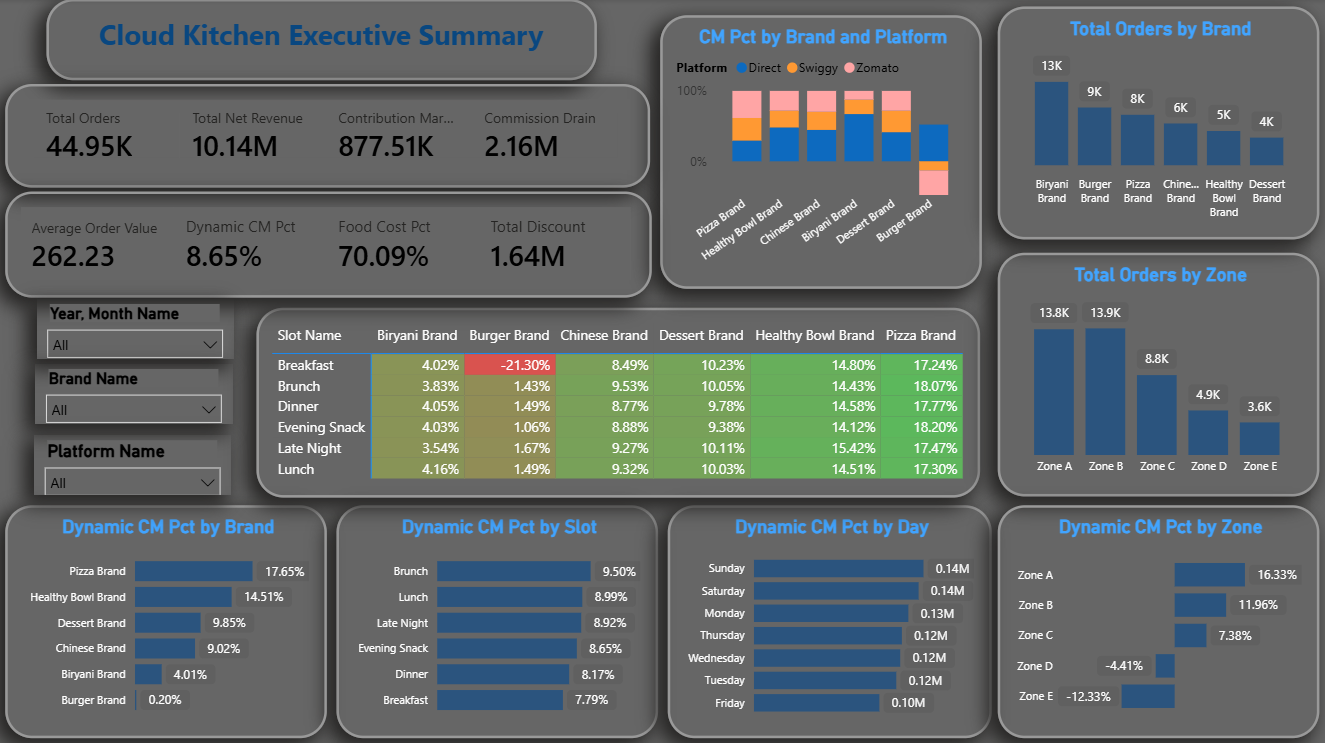

This screenshot's page, from the dashboard's own definition file:
{"tool":"powerbi","page":{"name":"Duplicate of Executive Summary","canvas":[1280,720],"ordinal":1},"visuals":[{"type":"clusteredBarChart","title":"Dynamic CM Pct by Slot","fields":{"Category":["vw_brand_unit_economics.slot_name"],"Y":["_Measure.Dynamic CM Pct"]},"box":[326.2,488.8,310,225],"z":0},{"type":"clusteredBarChart","title":"Dynamic CM Pct by Brand","fields":{"Category":["vw_brand_unit_economics.brand_name"],"Y":["_Measure.Dynamic CM Pct"]},"box":[6.2,488.8,310,225],"z":1000},{"type":"clusteredBarChart","title":"Dynamic CM Pct by Day","fields":{"Category":["dim_date.Day Name"],"Y":["_Measure.Total Contribution Margin"]},"box":[645,488.8,312.5,225],"z":2000},{"type":"pivotTable","fields":{"Columns":["vw_brand_unit_economics.brand_name"],"Rows":["vw_brand_unit_economics.slot_name"],"Values":["_Measures.Dynamic CM Pct"]},"box":[248.8,297.5,698,183],"z":3000},{"type":"columnChart","title":"Total Orders by Brand","fields":{"Category":["vw_brand_unit_economics.brand_name"],"Y":["_Measure.Total Orders"]},"box":[963.8,7.5,310,225],"z":4000},{"type":"columnChart","title":"Total Orders by Zone","fields":{"Category":["vw_brand_unit_economics.zone_name"],"Y":["_Measure.Total Orders"]},"box":[963.8,245,310,235],"z":5000},{"type":"barChart","title":"Dynamic CM Pct by Zone","fields":{"Category":["vw_brand_unit_economics.zone_name"],"Y":["_Measure.Dynamic CM Pct"]},"box":[963.8,488.8,310,225],"z":6000},{"type":"hundredPercentStackedColumnChart","title":"CM Pct by Brand and Platform","fields":{"Category":["vw_brand_unit_economics.brand_name"],"Series":["vw_brand_unit_economics.platform_name"],"Y":["_Measure.Total Contribution Margin"]},"box":[638.8,16.2,310,263.8],"z":7000},{"type":"textbox","box":[46.2,0,531.2,78.8],"z":8000},{"type":"cardVisual","fields":{"Data":["_Measure.Total Orders","_Measure.Total Net Revenue","_Measure.Total Contribution Margin","_Measure.Platform Commission Drain"]},"box":[6.2,82.5,622.5,100],"z":9000},{"type":"cardVisual","fields":{"Data":["_Measure.Average Order Value","_Measure.Dynamic CM Pct","_Measure.Food Cost Percentage","_Measure.Total Discount"]},"box":[6.2,186.2,623.8,102.5],"z":10000},{"type":"slicer","fields":{"Values":["dim_date.Year","dim_date.Month Name"]},"box":[36.2,290,190,57.5],"z":11000},{"type":"slicer","fields":{"Values":["vw_brand_unit_economics.brand_name"]},"box":[35,352.5,190,57.5],"z":12000},{"type":"slicer","fields":{"Values":["vw_brand_unit_economics.platform_name"]},"box":[33.8,421.2,190,57.5],"z":13000}]}

Visuals, with their boxes in screenshot pixels (x1, y1, x2, y2), scaled from the page's 1280x720 canvas onto the 1325x743 screenshot:
"Dynamic CM Pct by Slot" clusteredBarChart: <box>338,504,659,737</box>
"Dynamic CM Pct by Brand" clusteredBarChart: <box>6,504,327,737</box>
"Dynamic CM Pct by Day" clusteredBarChart: <box>668,504,991,737</box>
pivotTable - vw_brand_unit_economics.brand_name x vw_brand_unit_economics.slot_name: <box>258,307,980,496</box>
"Total Orders by Brand" columnChart: <box>998,8,1319,240</box>
"Total Orders by Zone" columnChart: <box>998,253,1319,495</box>
"Dynamic CM Pct by Zone" barChart: <box>998,504,1319,737</box>
"CM Pct by Brand and Platform" hundredPercentStackedColumnChart: <box>661,17,982,289</box>
textbox: <box>48,0,598,81</box>
cardVisual - _Measure.Total Orders x _Measure.Total Net Revenue: <box>6,85,651,188</box>
cardVisual - _Measure.Average Order Value x _Measure.Dynamic CM Pct: <box>6,192,652,298</box>
slicer - dim_date.Year x dim_date.Month Name: <box>37,299,234,359</box>
slicer - vw_brand_unit_economics.brand_name: <box>36,364,233,423</box>
slicer - vw_brand_unit_economics.platform_name: <box>35,435,232,494</box>
